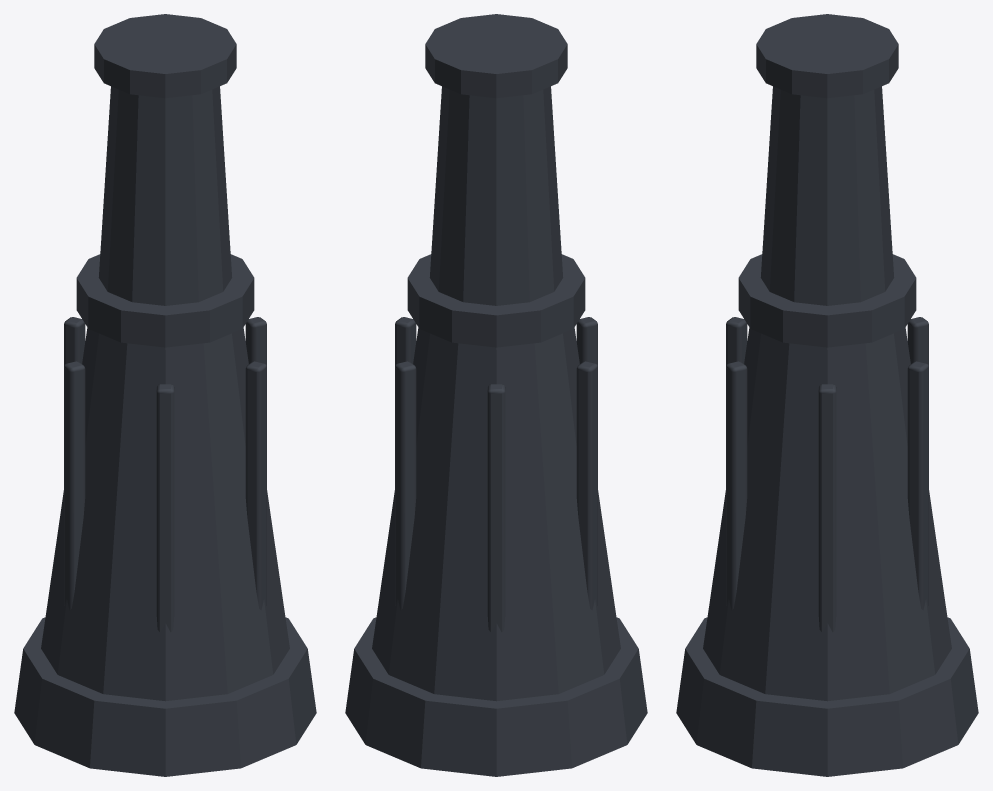
The model's file is street_lamp_base.fbx.
3 renders of one model, left to right at view 1: azimuth 30°, elevation 25°; view 2: azimuth 150°, elevation 25°; view 3: azimuth 270°, elevation 25°, orthographic.
Visible parts, largest first — view 1: street_lamp_base; view 2: street_lamp_base; view 3: street_lamp_base.
Part boxes in pixels (x1,y1,x2,y2): street_lamp_base: [14, 14, 316, 776]; street_lamp_base: [345, 14, 647, 776]; street_lamp_base: [676, 14, 978, 776].
Bounding box in the file's own units: 0.34 × 0.34 × 0.83.
